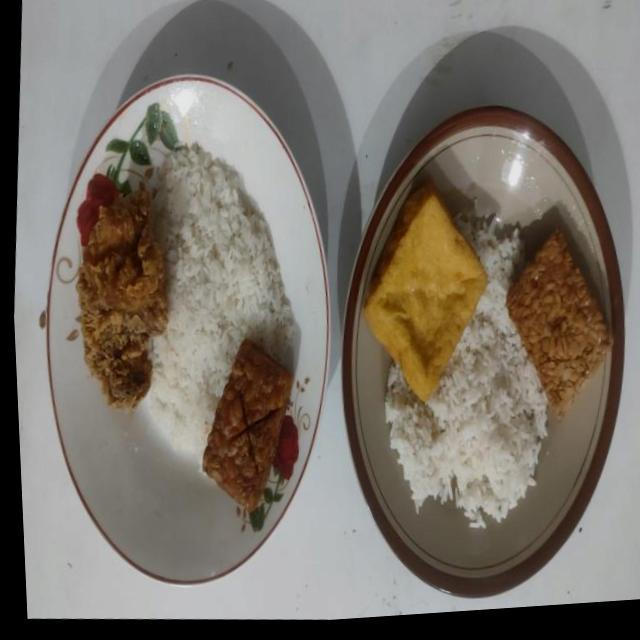nasi_putih: (384, 214, 548, 527), (149, 144, 294, 456)
tahu_goreng: (364, 184, 486, 401)
tempe_goreng: (506, 231, 612, 417), (202, 340, 292, 511)
